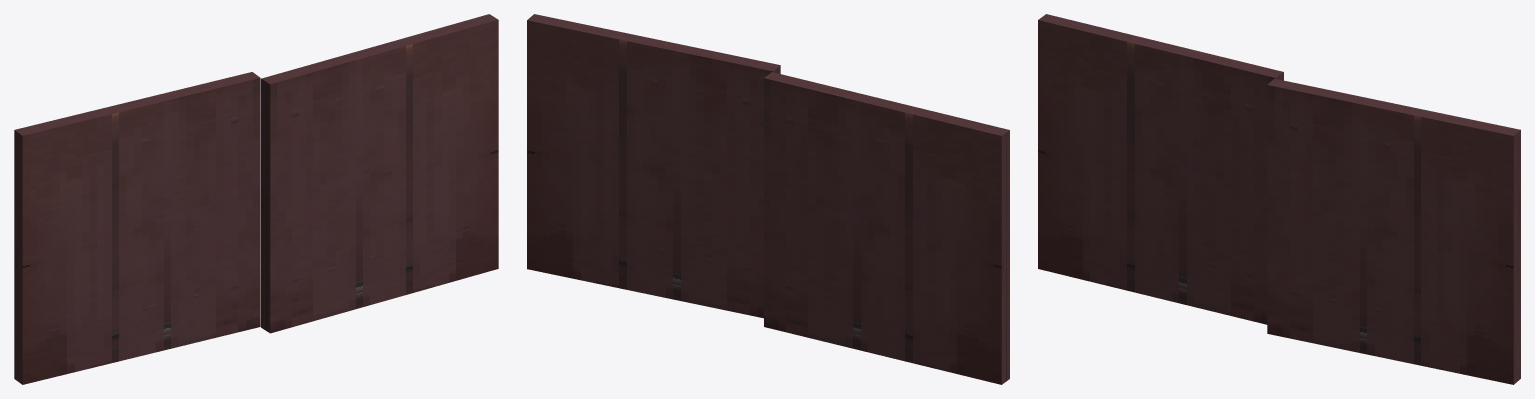
File: shutters_small_double_closed_02.glb
3 renders of one model, left to right at view 1: azimuth 30°, elevation 25°; view 2: azimuth 150°, elevation 25°; view 3: azimuth 330°, elevation 25°, orthographic.
Visible parts, largest first — view 1: shutters_small_double_closed_022; view 2: shutters_small_double_closed_022; view 3: shutters_small_double_closed_022.
Boxes of the visible parts, <box> form: shutters_small_double_closed_022: <box>14,14,498,384</box>; shutters_small_double_closed_022: <box>527,14,1009,384</box>; shutters_small_double_closed_022: <box>1038,14,1520,384</box>.
Size of the model in its own units: 2 by 1 by 0.1267.
Materials: 1 (1 with a texture image).
